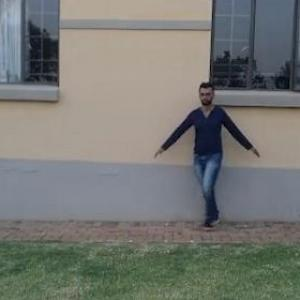land: (160, 83, 262, 239)
